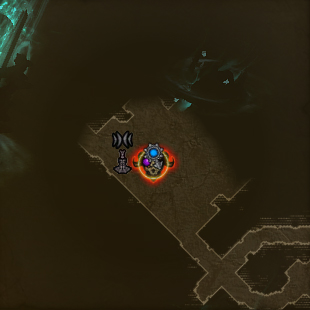Guardian: (131, 146, 177, 183)
